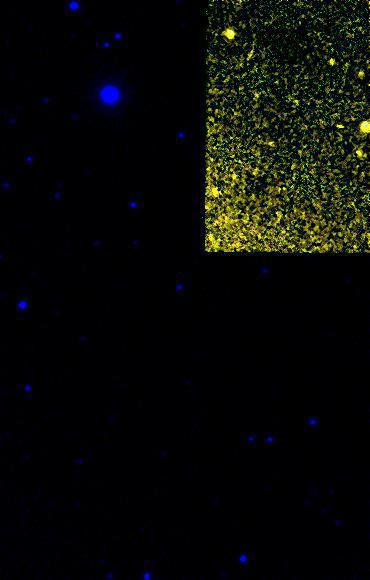star: (323, 111, 353, 141)
